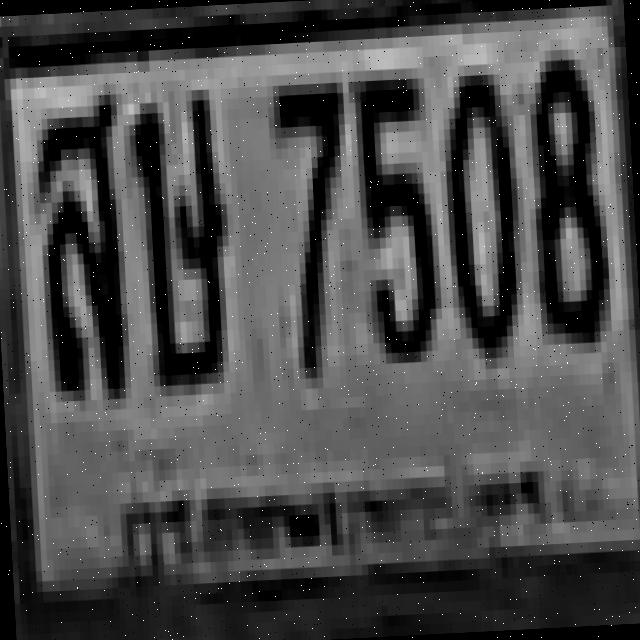0: (435, 63, 520, 350)
48SorRueSi: (127, 84, 230, 382)
49SorSuea: (29, 84, 126, 392)
5: (350, 68, 436, 354)
7: (266, 73, 352, 370)
8: (521, 48, 606, 335)
